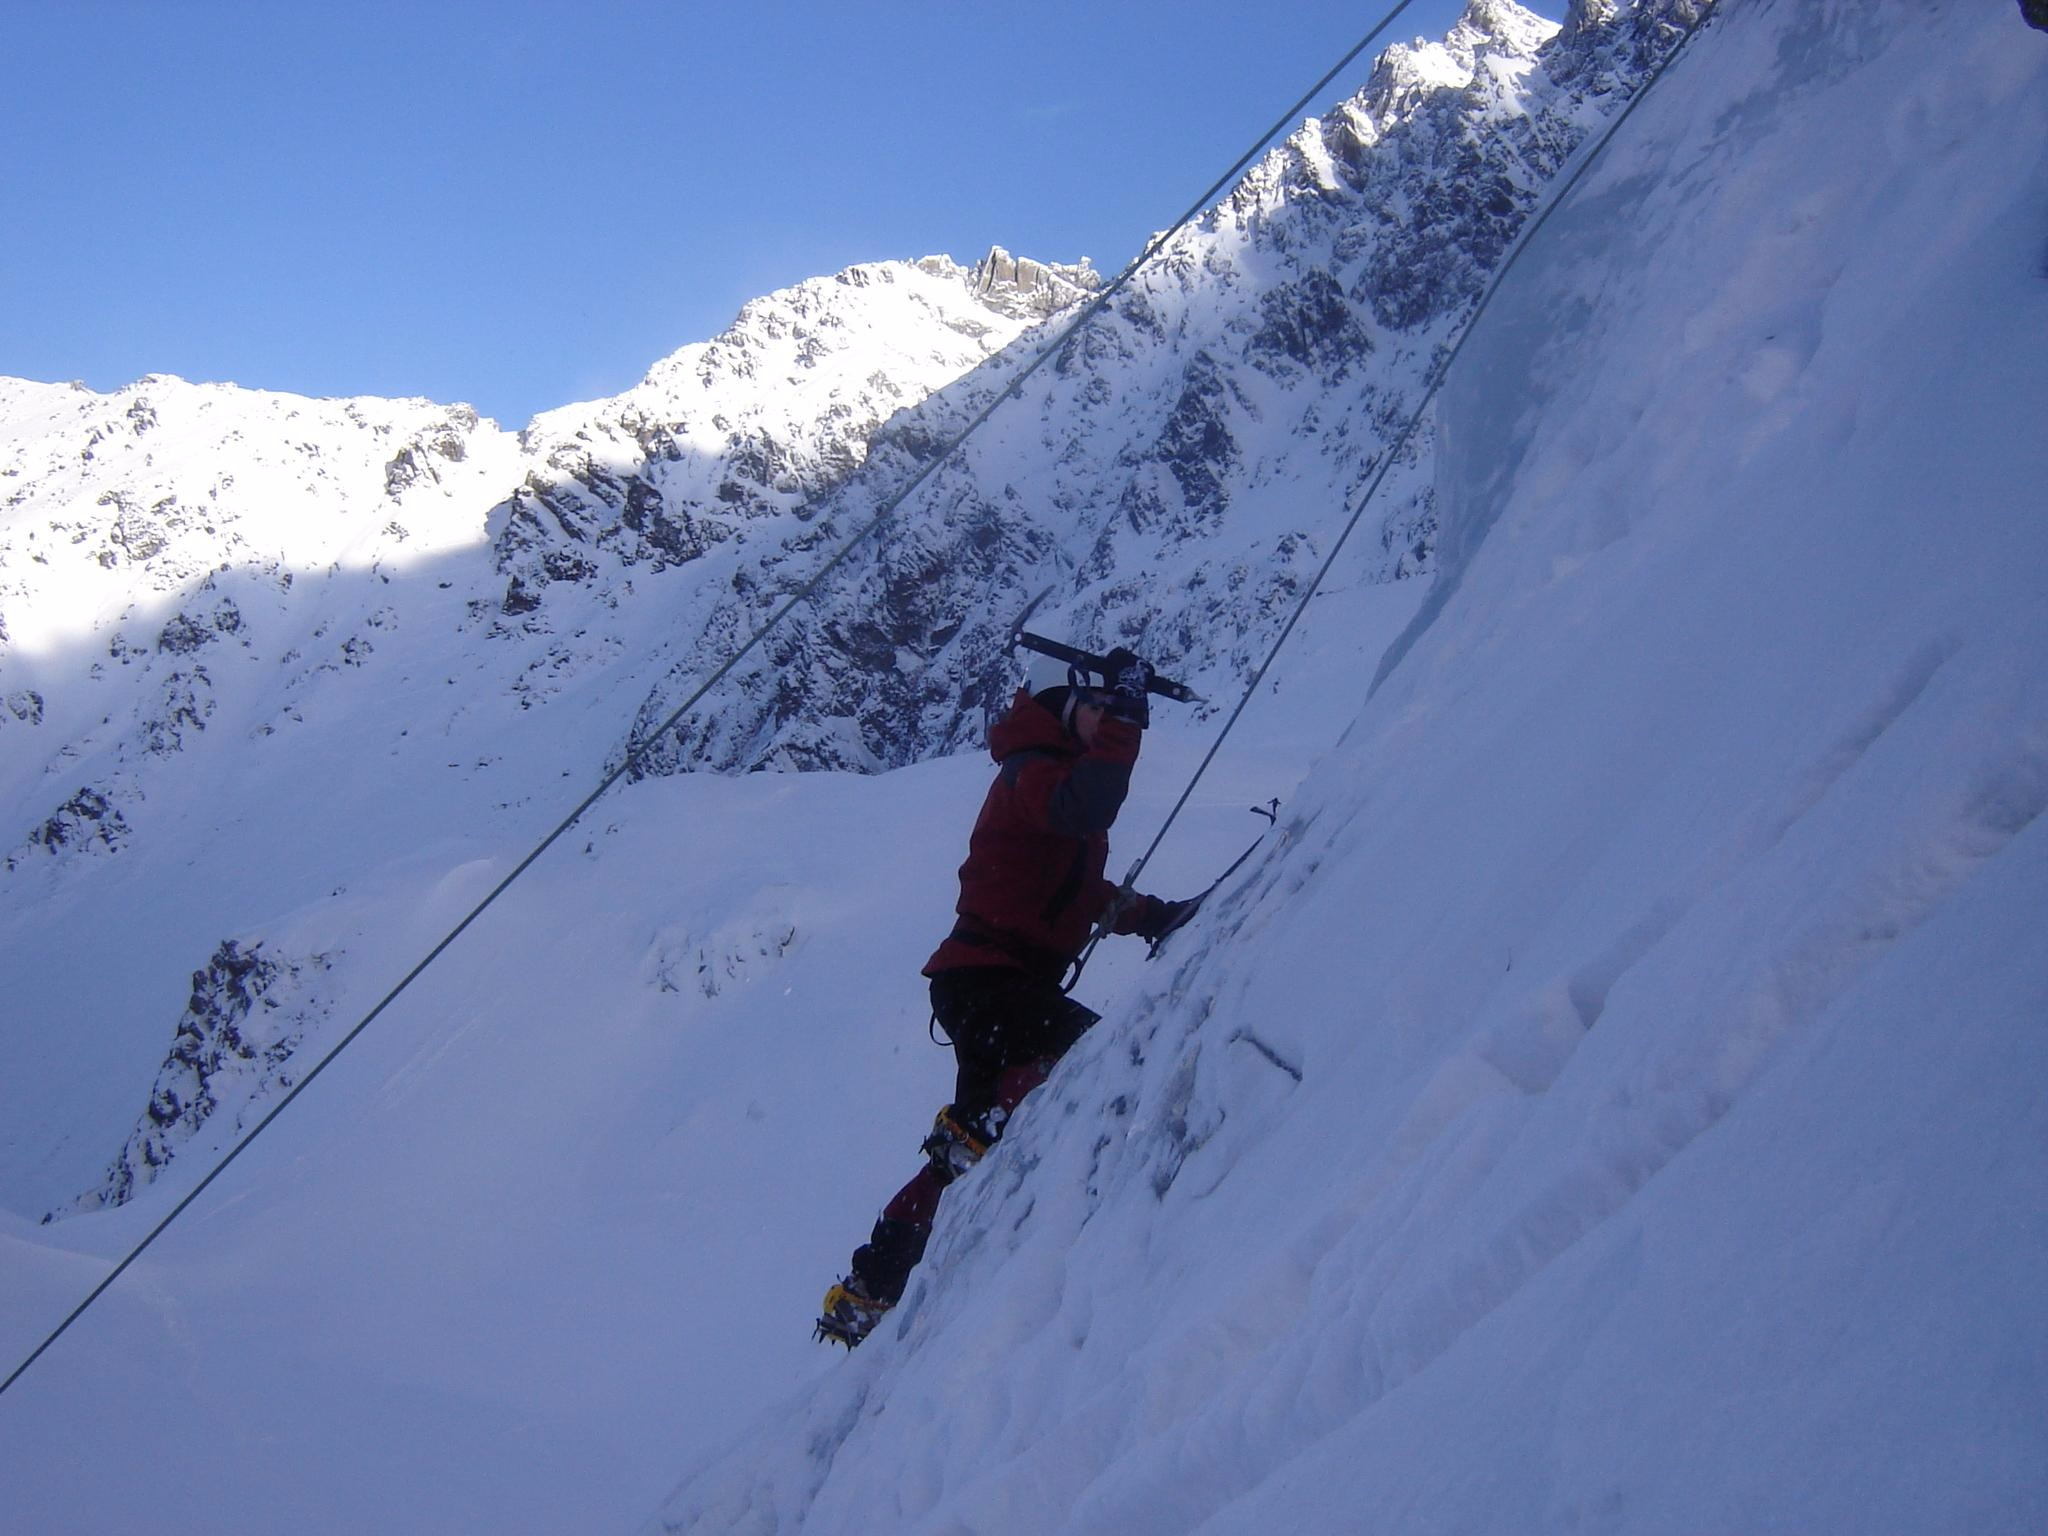helmet: (1001, 632, 1119, 718)
